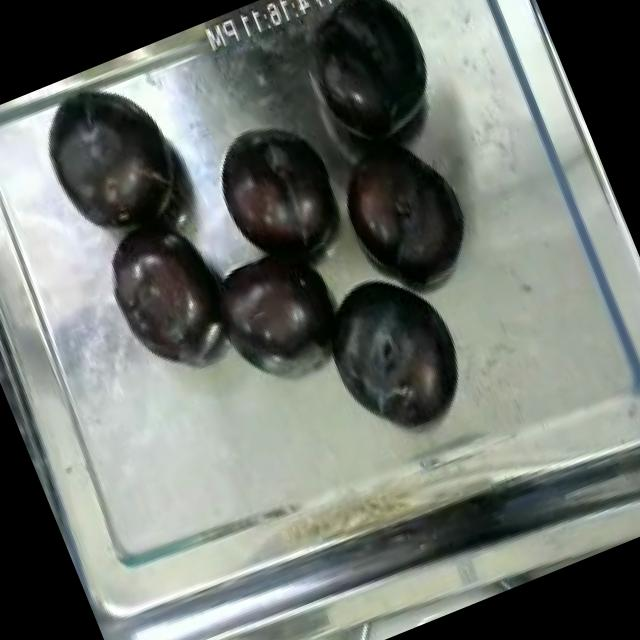Fruit: (298, 251, 482, 454), (26, 62, 201, 254), (192, 100, 361, 280), (324, 120, 486, 302), (90, 205, 248, 380), (189, 225, 354, 388), (287, 0, 452, 158)
